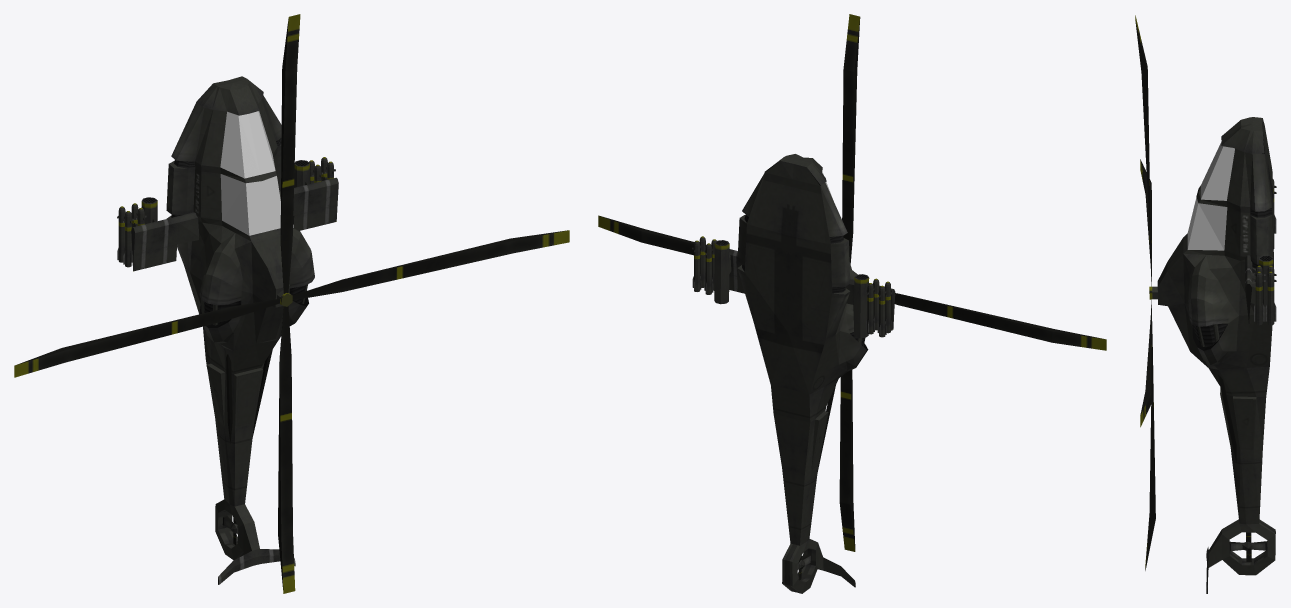
The model's file is gunshipwhole_wtf.obj.
3 renders of one model, left to right at view 1: azimuth 30°, elevation 25°; view 2: azimuth 150°, elevation 25°; view 3: azimuth 270°, elevation 25°, orthographic. The views are drawn at different scales.
Parts seen in each view (by area): view 1: group11, group13, group12; view 2: group11, group13; view 3: group11, group13, group12, group9, group8.
Part boxes in pixels (x1,y1,x2,y2): group11: (131,76,338,584); group13: (14,14,569,593); group12: (220,111,280,235); group11: (714,154,895,593); group13: (598,14,1106,551); group11: (1157,117,1275,593); group13: (1135,15,1157,570); group12: (1187,141,1234,250); group9: (1265,271,1276,325); group8: (1253,271,1264,325).
Bounding box in the file's own units: 652 × 660 × 151.
